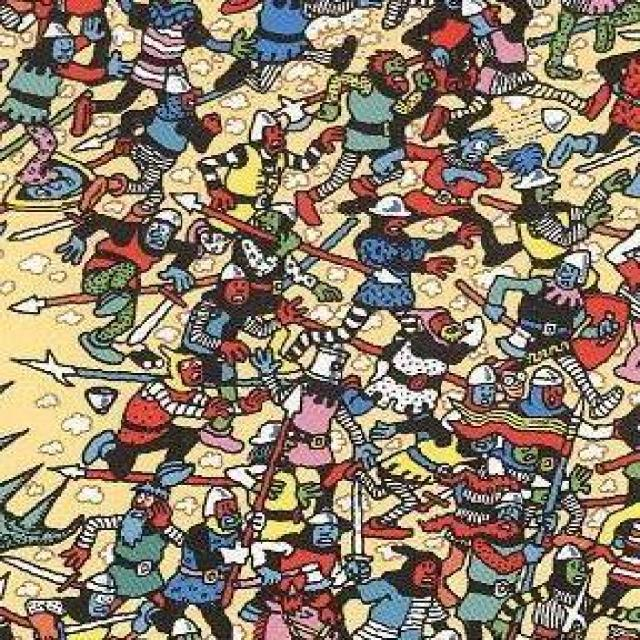waldo: (482, 358, 529, 398)
